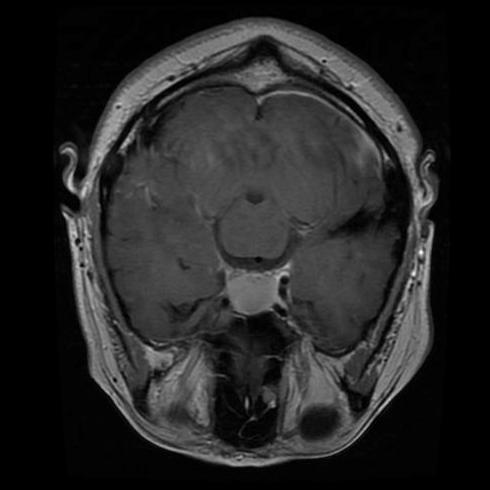Tumour-Pituitary: (214, 257, 292, 320)
